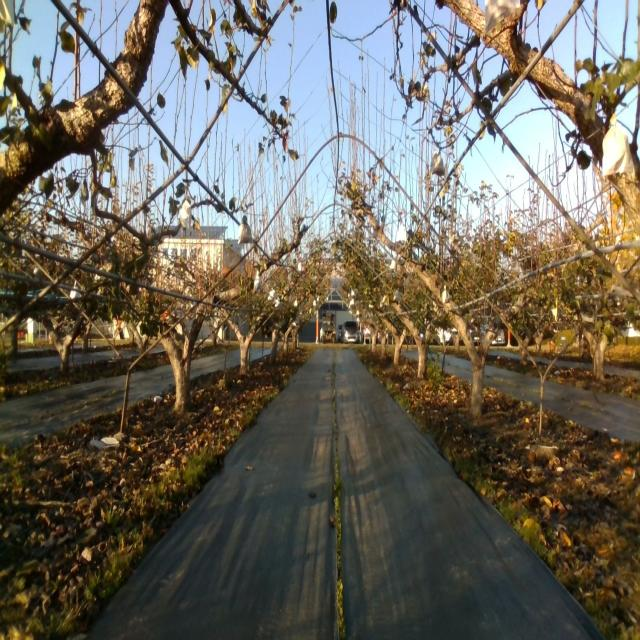pearbags: (603, 112, 633, 176), (179, 198, 193, 229), (238, 222, 254, 245), (430, 152, 444, 176)
